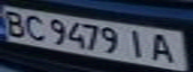4: (63, 20, 84, 50)
7: (81, 21, 103, 52)
9: (45, 16, 69, 46), (100, 25, 124, 55)
A: (145, 30, 184, 65)
B: (0, 7, 30, 38)
C: (21, 11, 48, 43)
I: (124, 27, 151, 60)
